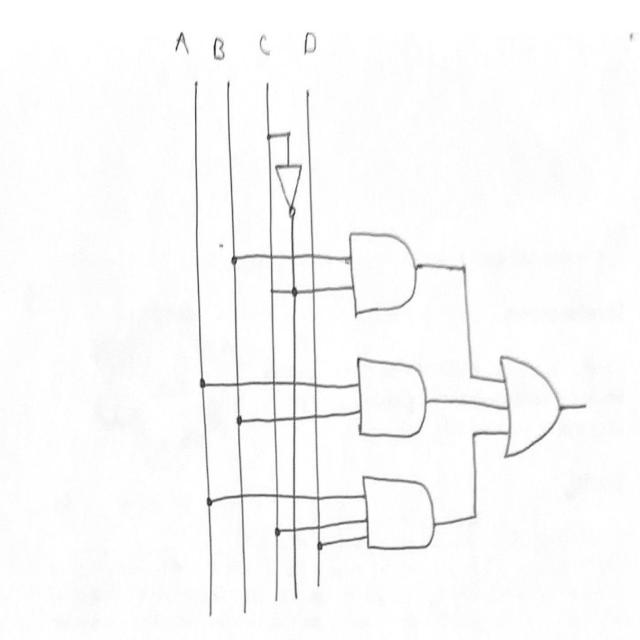AND: (352, 462, 443, 576), (349, 347, 435, 454), (345, 223, 428, 326)
NOT: (273, 156, 307, 220)
OR: (491, 330, 564, 473)
